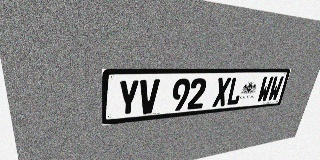2: (187, 78, 207, 110)
9: (171, 78, 191, 111)
L: (226, 77, 244, 106)
V: (138, 79, 160, 115)
W: (256, 76, 274, 103), (267, 76, 284, 102)
X: (212, 77, 231, 107)
Y: (117, 80, 140, 117)
